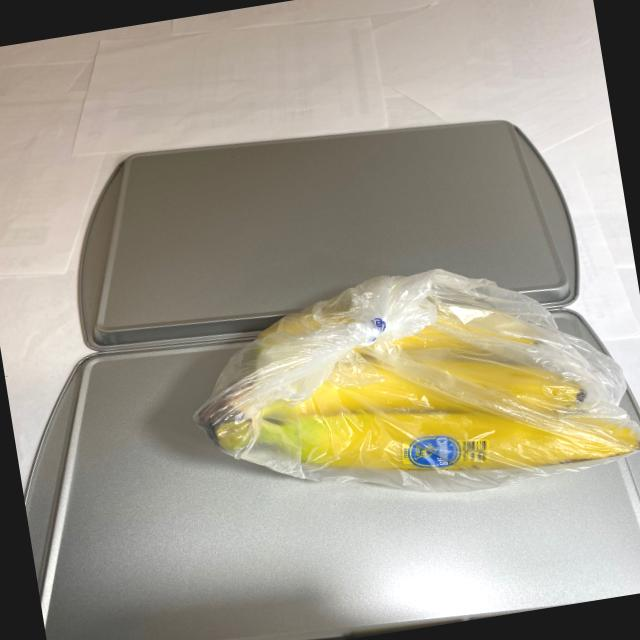banana: (180, 247, 640, 541)
